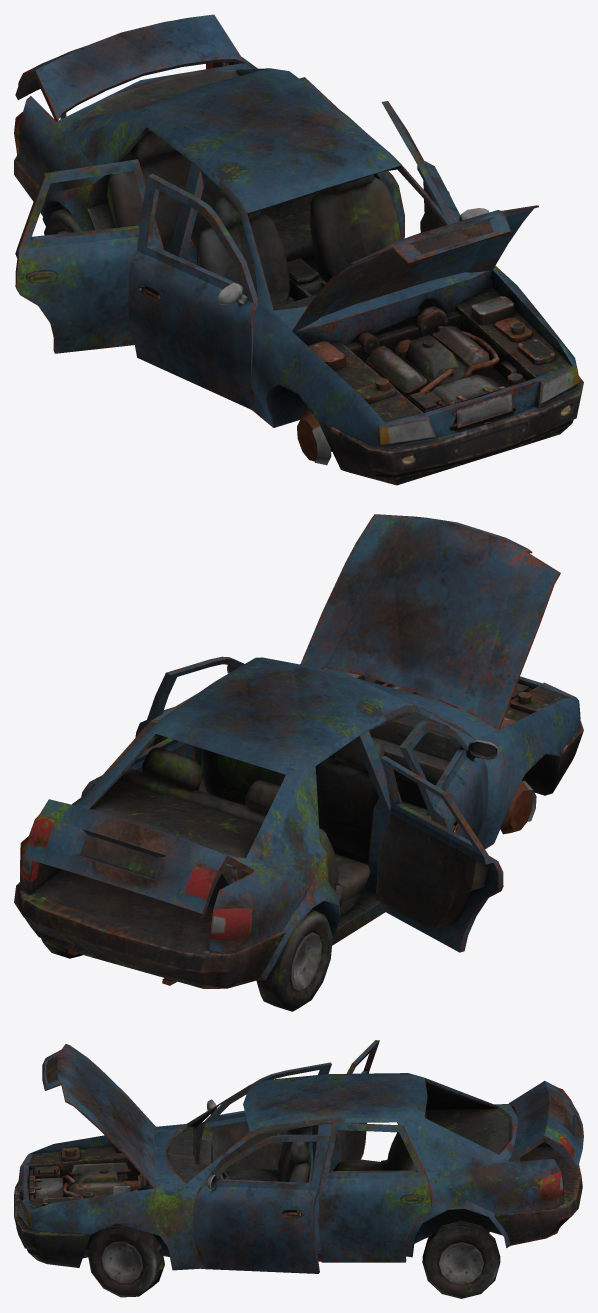
The model's file is sedan-abandonado.glb.
3 views of the same model, one above another, from view 1: azimuth 30°, elevation 25°; view 2: azimuth 150°, elevation 25°; view 3: azimuth 270°, elevation 25° (orthographic). The views are drawn at different scales.
Visible parts, largest first — view 1: KUZA_0, Seats.001_6, ON QAPI_2, ARXA QAPI_3, Engine.001_8, BAQAJ_4, KAPOT_1, ON QAPI.001_12, SALON_5, TEKER.002_15, TEKER.003_11; view 2: KUZA_0, KAPOT_1, Seats.001_6, ARXA QAPI_3, BAQAJ_4, ON QAPI_2, TEKER.003_11, SALON_5, ON QAPI.001_12, TEKER.002_15, Engine.001_8, ARXA QAPI.001_13; view 3: KUZA_0, ON QAPI.001_12, ARXA QAPI.001_13, KAPOT_1, TEKER.001_14, TEKER.004_10, BAQAJ_4, ON QAPI_2, Engine.001_8, Seats.001_6, SALON_5, ARXA QAPI_3.
Part boxes in pixels (left/top/right/bottom): KUZA_0: left=14, top=57, right=583, bottom=485; Seats.001_6: left=106, top=130, right=402, bottom=307; ON QAPI_2: left=128, top=173, right=258, bottom=409; ARXA QAPI_3: left=15, top=159, right=163, bottom=353; Engine.001_8: left=308, top=296, right=555, bottom=412; BAQAJ_4: left=15, top=14, right=244, bottom=121; KAPOT_1: left=292, top=205, right=538, bottom=332; ON QAPI.001_12: left=381, top=101, right=489, bottom=232; SALON_5: left=273, top=258, right=326, bottom=310; TEKER.002_15: left=297, top=411, right=331, bottom=465; TEKER.003_11: left=44, top=207, right=82, bottom=235; KUZA_0: left=14, top=657, right=583, bottom=988; KAPOT_1: left=300, top=514, right=560, bottom=729; Seats.001_6: left=120, top=738, right=430, bottom=916; ARXA QAPI_3: left=375, top=756, right=503, bottom=952; BAQAJ_4: left=23, top=799, right=253, bottom=914; ON QAPI_2: left=399, top=720, right=498, bottom=839; TEKER.003_11: left=256, top=909, right=332, bottom=1011; SALON_5: left=319, top=713, right=457, bottom=828; ON QAPI.001_12: left=135, top=656, right=244, bottom=793; TEKER.002_15: left=500, top=780, right=536, bottom=834; Engine.001_8: left=322, top=668, right=550, bottom=728; ARXA QAPI.001_13: left=81, top=693, right=197, bottom=796; KUZA_0: left=14, top=1073, right=582, bottom=1270; ON QAPI.001_12: left=193, top=1134, right=331, bottom=1273; ARXA QAPI.001_13: left=318, top=1123, right=431, bottom=1262; KAPOT_1: left=42, top=1044, right=156, bottom=1188; TEKER.001_14: left=422, top=1220, right=500, bottom=1298; TEKER.004_10: left=87, top=1223, right=164, bottom=1297; BAQAJ_4: left=508, top=1081, right=583, bottom=1169; ON QAPI_2: left=197, top=1062, right=331, bottom=1182; Engine.001_8: left=34, top=1146, right=148, bottom=1205; Seats.001_6: left=222, top=1109, right=426, bottom=1182; SALON_5: left=167, top=1125, right=236, bottom=1193; ARXA QAPI_3: left=329, top=1040, right=379, bottom=1170.
Size of the model in its own units: 12.73 by 7.74 by 21.3.
1 material, 1 textured.
